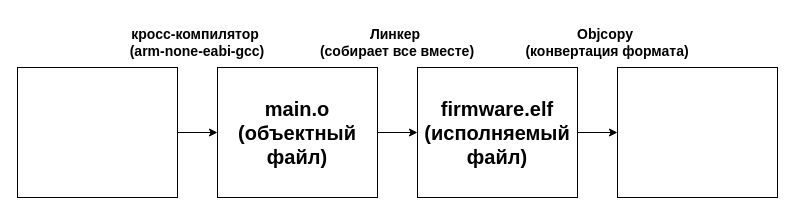
Some shapes in this 795 by 215 pixel diagram are drawn without their labels. The box of each missing label's shape, as (x1, y1, x2, y2) in pixels:
firmware.uf2 (файл для прошивки): (616, 66, 778, 198)
main.c (исходный код на C): (16, 66, 178, 198)
